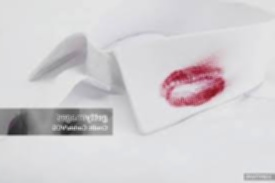lipstick: (163, 56, 229, 113)
